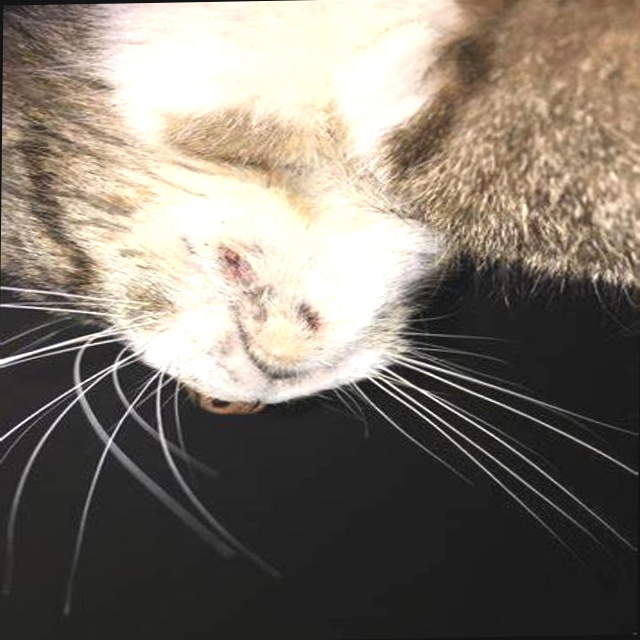acne: (214, 234, 325, 333)
